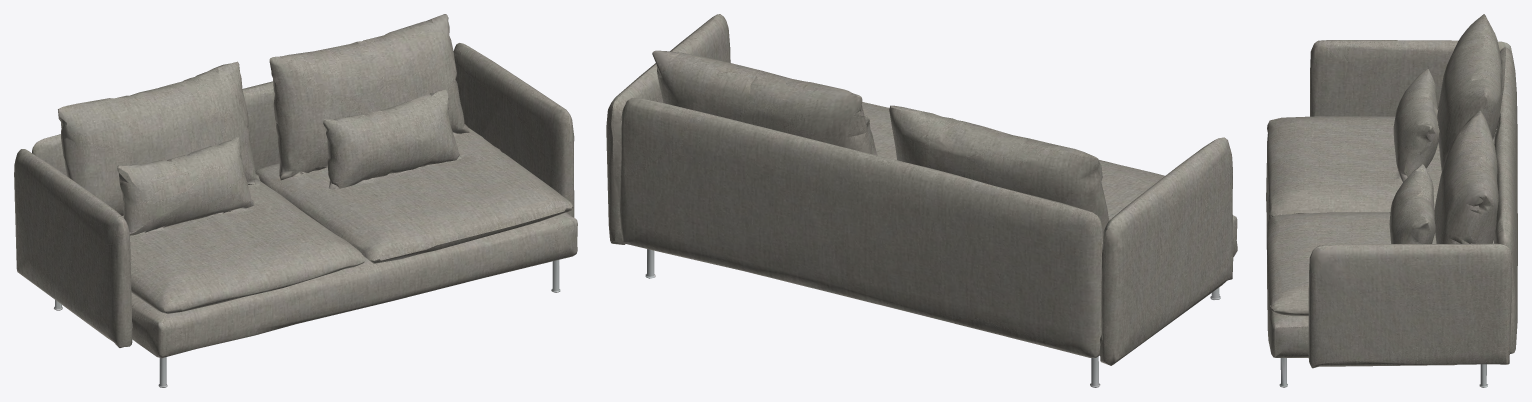
File: 38 - SÖDERHAMN - 三人座沙發，Viarp 米色棕色 IKEA 線上購物.glb
3 renders of one model, left to right at view 1: azimuth 30°, elevation 25°; view 2: azimuth 150°, elevation 25°; view 3: azimuth 270°, elevation 25°, orthographic. The views are drawn at different scales.
Visible parts, largest first — view 1: ProcessedMeshNode; view 2: ProcessedMeshNode; view 3: ProcessedMeshNode.
Part boxes in pixels (x1=…): ProcessedMeshNode: x1=14, y1=14, x2=577, y2=387; ProcessedMeshNode: x1=606, y1=14, x2=1237, y2=387; ProcessedMeshNode: x1=1266, y1=14, x2=1517, y2=387.
Bounding box in the file's own units: 2.05 × 0.865 × 1.02.
Materials: 2 (2 with a texture image).
